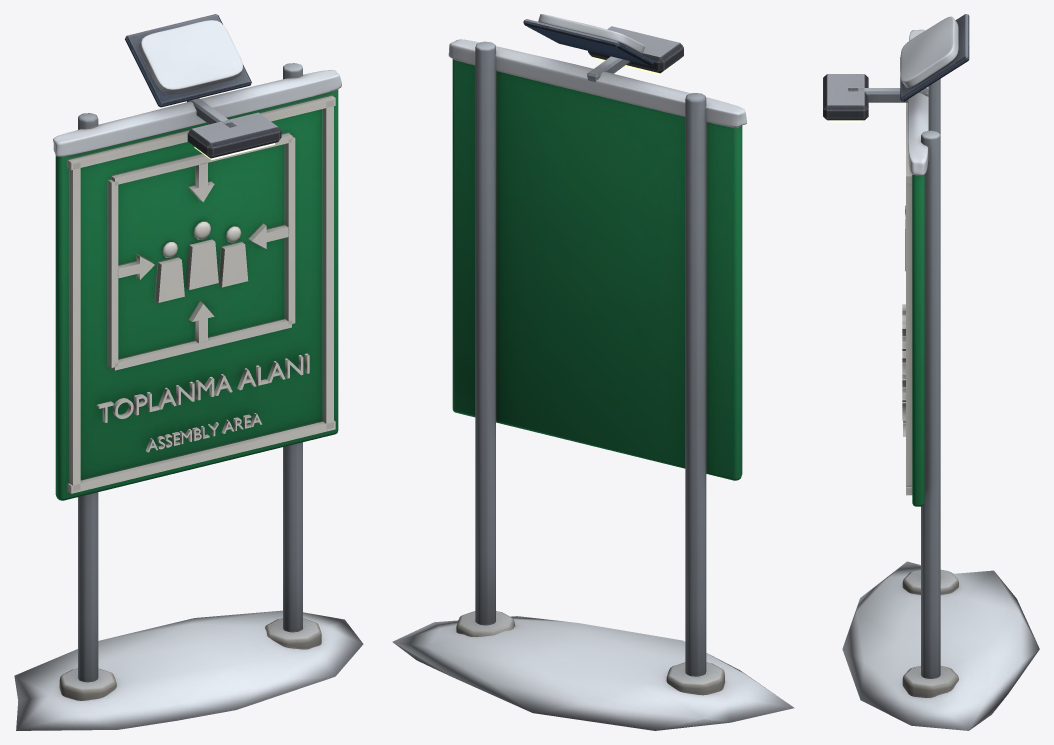
File: assembly_sign.glb
The picture shows the model from 3 angles, left to right: view 1: azimuth 30°, elevation 25°; view 2: azimuth 150°, elevation 25°; view 3: azimuth 270°, elevation 25°; orthographic projection. The views are drawn at different scales.
Parts seen in each view (by area): view 1: assembly_sign; view 2: assembly_sign; view 3: assembly_sign.
Boxes of the visible parts, x1,y1,x2,y2 form: assembly_sign: (14,14,363,730); assembly_sign: (392,14,794,730); assembly_sign: (823,14,1039,730).
Size of the model in its own units: 1.94 by 3.29 by 1.05.
Materials: 2 (1 with a texture image).
